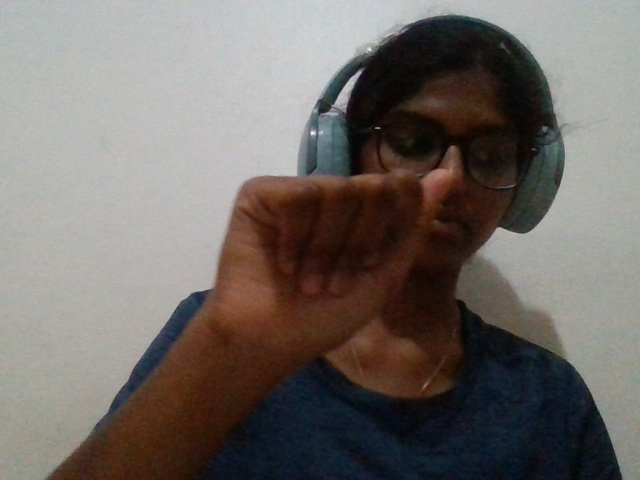A: (180, 149, 461, 431)
